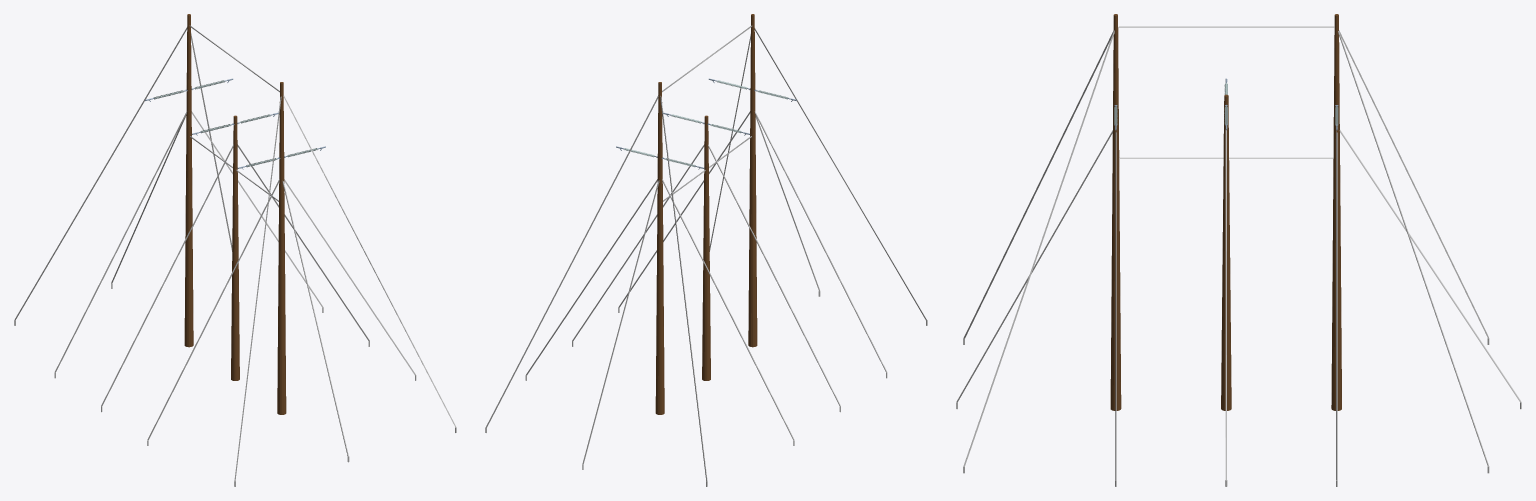
3 views of the same model, side by side, from view 1: azimuth 30°, elevation 25°; view 2: azimuth 150°, elevation 25°; view 3: azimuth 270°, elevation 25° (orthographic). The views are drawn at different scales.
Parts seen in each view (by area): view 1: Guy_Guy, WoodPole_Pole; view 2: Guy_Guy, WoodPole_Pole; view 3: WoodPole_Pole, Guy_Guy.
Boxes of the visible parts, box(x1,y1,x2,y2) form: Guy_Guy: box(14, 25, 455, 481); WoodPole_Pole: box(184, 14, 286, 414); Guy_Guy: box(486, 25, 926, 481); WoodPole_Pole: box(655, 14, 757, 414); WoodPole_Pole: box(1110, 14, 1341, 410); Guy_Guy: box(956, 26, 1521, 479).
Size of the model in its own units: 51.92 by 61 by 79.38.
